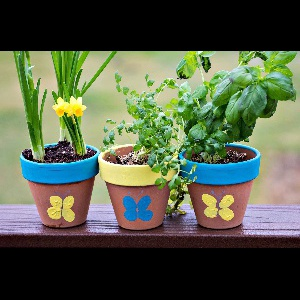flowerpot: (177, 140, 264, 232), (97, 141, 179, 233), (19, 141, 102, 230)
